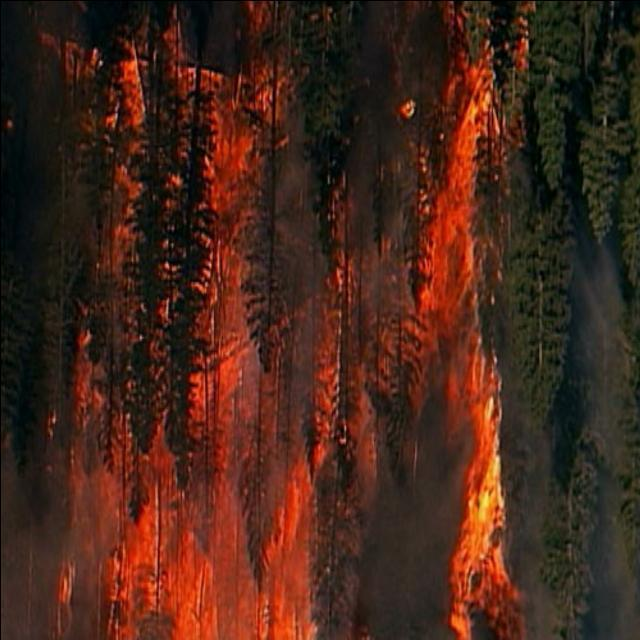Fire: (46, 42, 516, 622)
